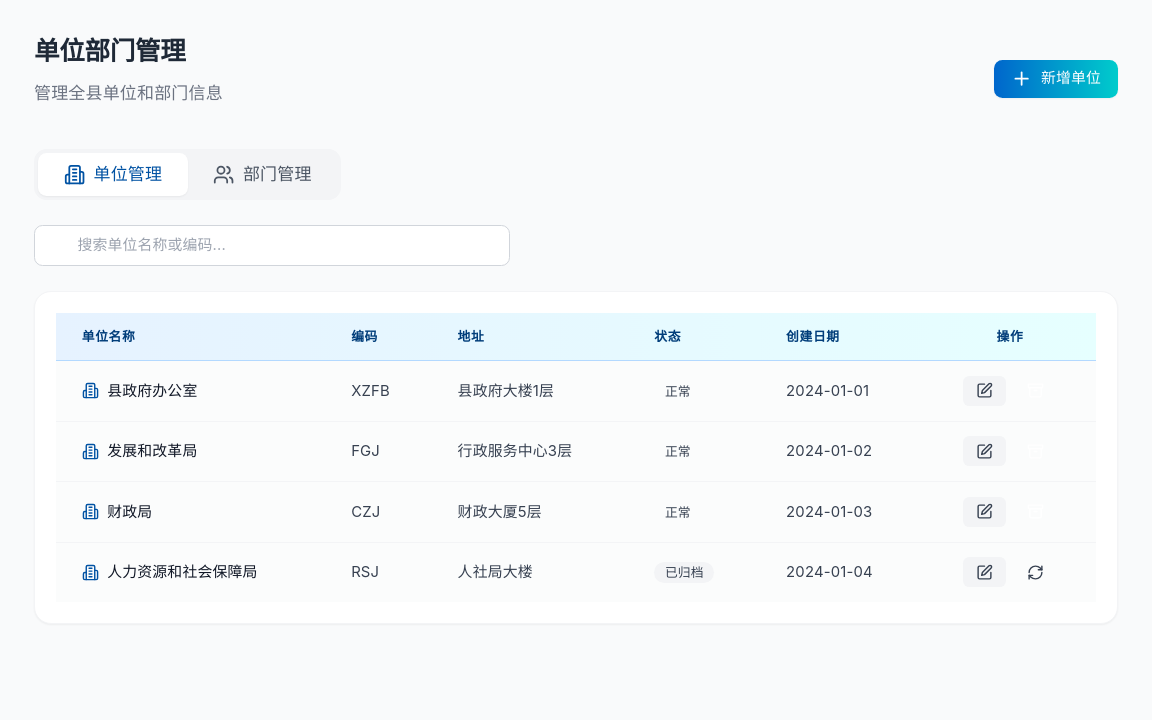
Test: OrganizationManagement Page › opens add organization modal when "新增单位" button is clicked
The width and height of the screenshot is (1152, 720).
Click the button "新增单位".
click(1056, 79)  # box [994,60,1118,98]
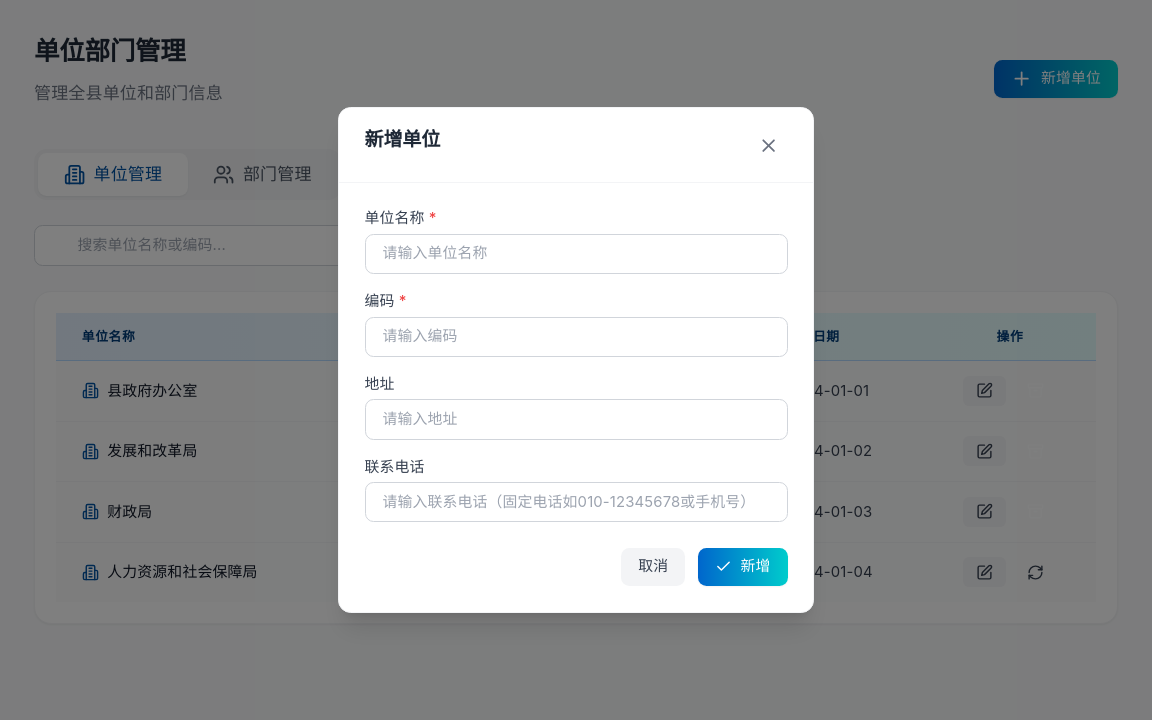
Expected: the dialog "新增单位" is shown, [338,108,814,613]
